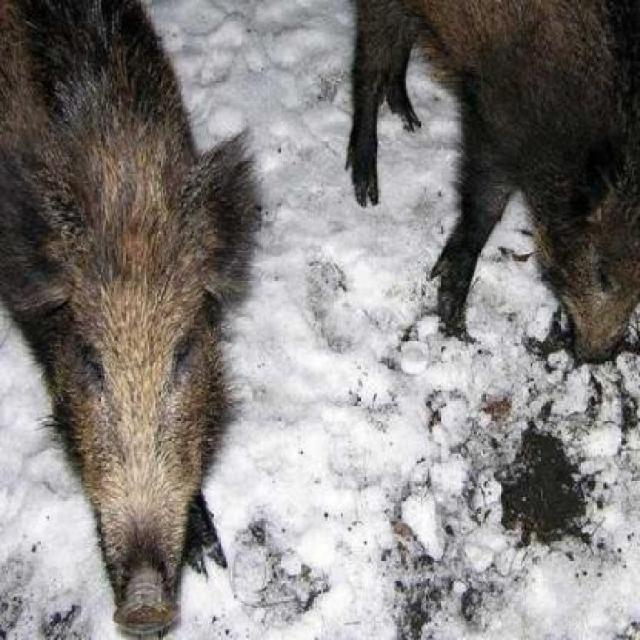pig: (0, 0, 300, 562), (349, 0, 639, 366)
